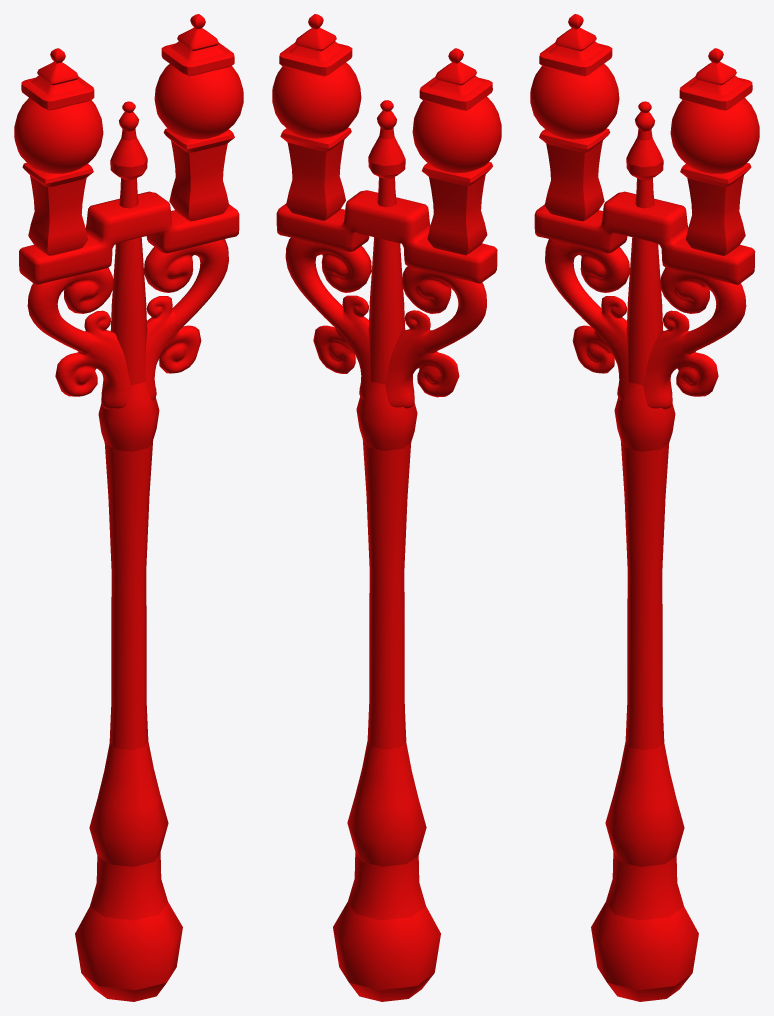
File: LP_LampPost_materialed.fbx
3 views of the same model, side by side, from view 1: azimuth 30°, elevation 25°; view 2: azimuth 150°, elevation 25°; view 3: azimuth 330°, elevation 25° (orthographic).
Parts seen in each view (by area): view 1: LPbase, LPswirls, LPball, LPstand, LPbricks, LPtop; view 2: LPbase, LPswirls, LPball, LPstand, LPbricks, LPtop; view 3: LPbase, LPswirls, LPball, LPstand, LPbricks, LPtop.
Boxes of the visible parts, bbox=[...] form: LPbase: bbox=[75, 101, 182, 1001]; LPswirls: bbox=[27, 239, 228, 409]; LPball: bbox=[14, 64, 243, 173]; LPstand: bbox=[22, 128, 234, 255]; LPbricks: bbox=[19, 191, 239, 285]; LPtop: bbox=[21, 14, 234, 110]; LPbase: bbox=[333, 100, 440, 1001]; LPswirls: bbox=[285, 237, 486, 408]; LPball: bbox=[272, 62, 501, 173]; LPstand: bbox=[280, 127, 492, 255]; LPbricks: bbox=[276, 190, 497, 283]; LPtop: bbox=[279, 14, 492, 110]; LPbase: bbox=[591, 101, 698, 1001]; LPswirls: bbox=[545, 239, 746, 409]; LPball: bbox=[530, 64, 759, 173]; LPstand: bbox=[539, 128, 751, 255]; LPbricks: bbox=[534, 191, 755, 285]; LPtop: bbox=[539, 14, 752, 110].
Bounding box in the file's own units: 206 × 863 × 82.67.
